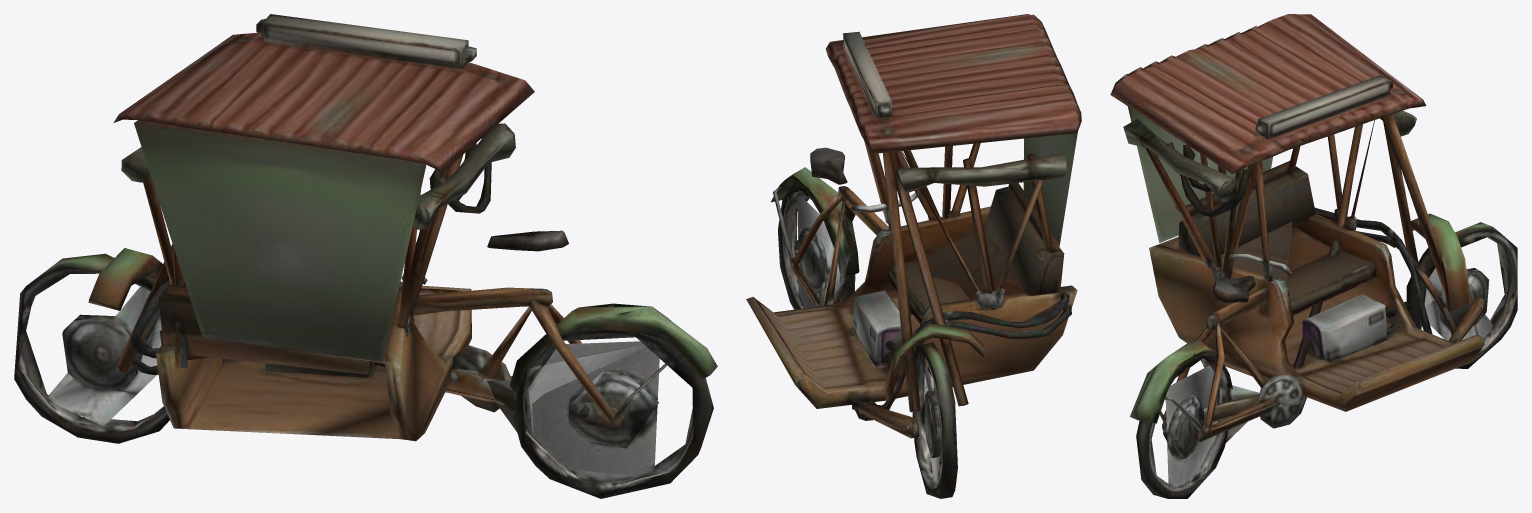
File: city_trishaw.glb
The picture shows the model from 3 angles, left to right: view 1: azimuth 30°, elevation 25°; view 2: azimuth 150°, elevation 25°; view 3: azimuth 270°, elevation 25°; orthographic projection. The views are drawn at different scales.
Parts seen in each view (by area): view 1: Body; view 2: Body; view 3: Body.
Boxes of the visible parts, x1,y1,x2,y2 form: Body: (14, 14, 717, 498); Body: (746, 14, 1081, 498); Body: (1110, 14, 1517, 498).
Bounding box in the file's own units: 2.49 × 2.12 × 2.32.
1 material, 1 textured.
